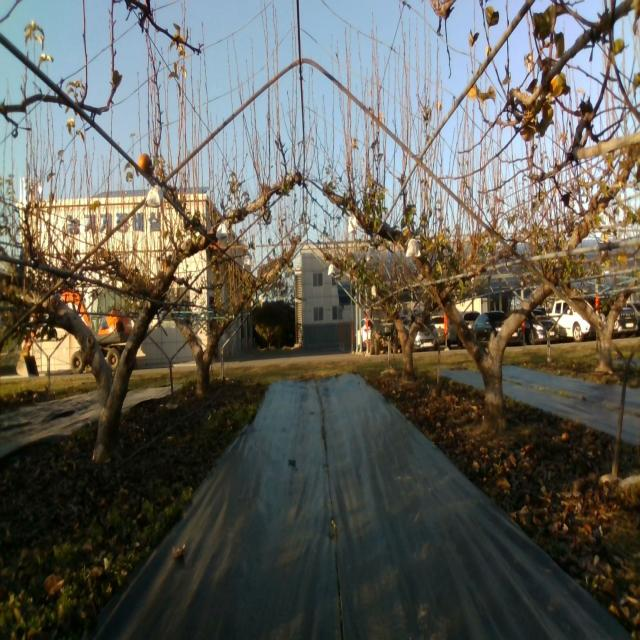pearbags: (144, 184, 165, 207), (406, 238, 421, 258), (216, 222, 230, 240)
